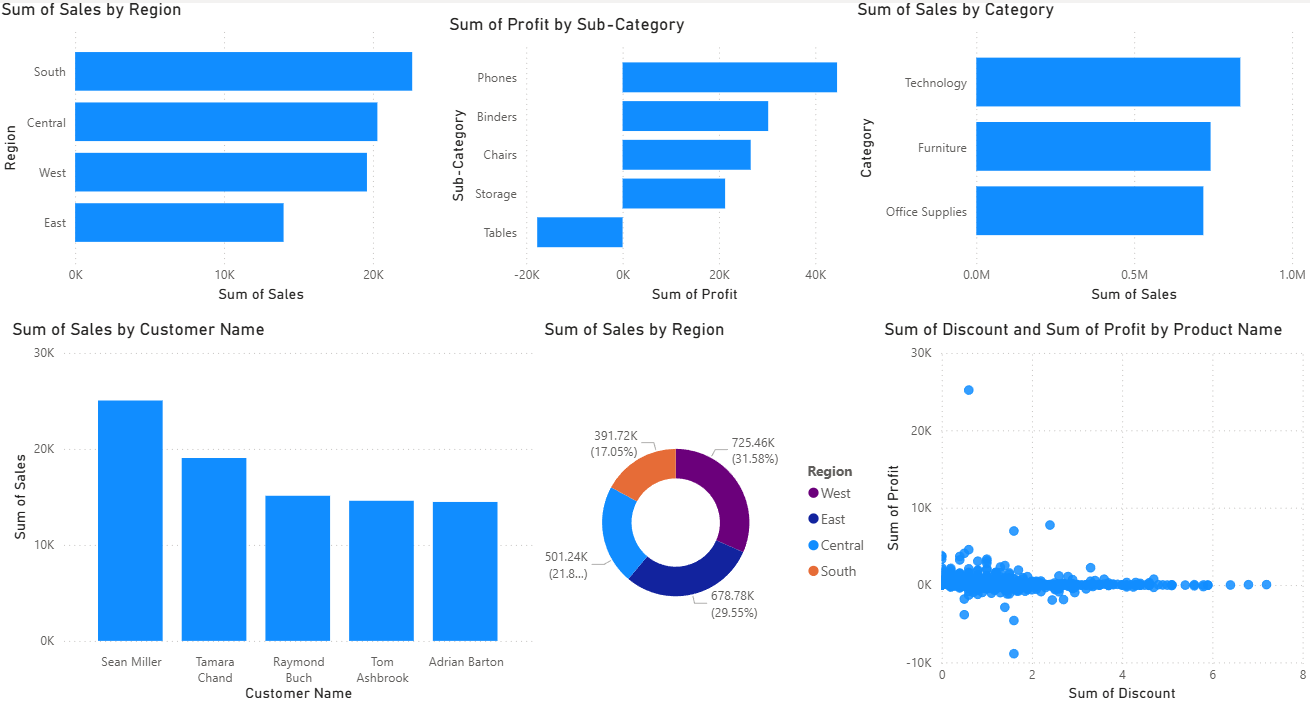

The dashboard page shown, as its layout file describes it:
{"tool":"powerbi","page":{"name":"Page 1","canvas":[1280,720],"ordinal":0},"visuals":[{"type":"barChart","fields":{"Y":["Sample - Superstore.Sales"],"Category":["Sample - Superstore.Region"]},"box":[0,31.1,454.2,299.6],"z":0},{"type":"clusteredBarChart","fields":{"Category":["Sample - Superstore.Sub-Category","Sample - Superstore.Category"],"Y":["Sample - Superstore.Profit"]},"box":[435.7,45.7,423.1,285],"z":1000},{"type":"columnChart","fields":{"Category":["Sample - Superstore.Customer Name"],"Y":["Sample - Superstore.Sales"]},"box":[10.7,342.4,517.4,377.4],"z":2000},{"type":"clusteredBarChart","fields":{"Category":["Sample - Superstore.Category","Sample - Superstore.Sub-Category"],"Y":["Sample - Superstore.Sales"]},"box":[832.6,31.1,447.4,299.6],"z":3000},{"type":"donutChart","fields":{"Category":["Sample - Superstore.Region"],"Y":["Sample - Superstore.Sales"]},"box":[528,342,331,377],"z":4000},{"type":"scatterChart","fields":{"X":["Sample - Superstore.Discount"],"Y":["Sample - Superstore.Profit"],"Category":["Sample - Superstore.Product Name"]},"box":[859,342,421,377],"z":5000},{"type":"textbox","box":[100,100,300,300],"z":5001}]}

Visuals, with their boxes on the page's 1280x720 design canvas (x1, y1, x2, y2). These are canvas units, not pixel positions in the 1310x704 screenshot, which may show the page scaled, cropped or inside an application window:
barChart - Sample - Superstore.Sales x Sample - Superstore.Region: Rect(0, 31, 454, 331)
clusteredBarChart - Sample - Superstore.Sub-Category x Sample - Superstore.Category: Rect(436, 46, 859, 331)
columnChart - Sample - Superstore.Customer Name x Sample - Superstore.Sales: Rect(11, 342, 528, 720)
clusteredBarChart - Sample - Superstore.Category x Sample - Superstore.Sub-Category: Rect(833, 31, 1280, 331)
donutChart - Sample - Superstore.Region x Sample - Superstore.Sales: Rect(528, 342, 859, 719)
scatterChart - Sample - Superstore.Discount x Sample - Superstore.Profit: Rect(859, 342, 1280, 719)
textbox: Rect(100, 100, 400, 400)
